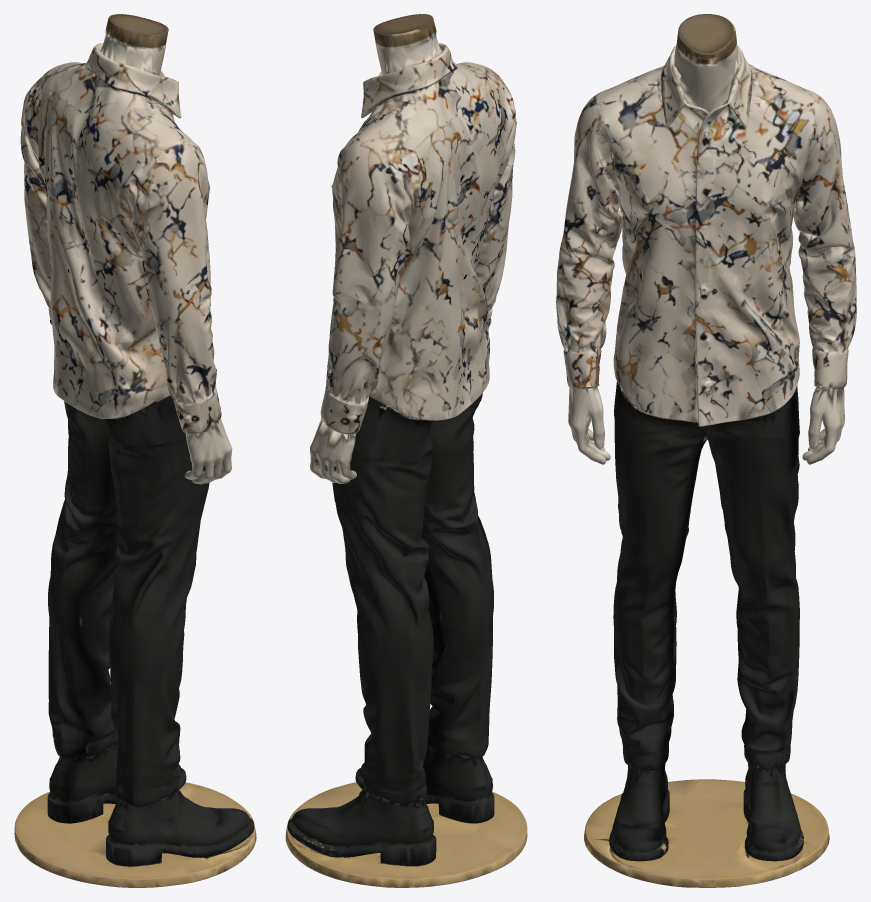
The model's file is pr_cream.glb.
The picture shows the model from 3 angles, left to right: view 1: azimuth 30°, elevation 25°; view 2: azimuth 150°, elevation 25°; view 3: azimuth 270°, elevation 25°; orthographic projection.
Visible parts, largest first — view 1: tripo_node_bfcce580-cf7c-4e6f-97a6-3f9bfe294234; view 2: tripo_node_bfcce580-cf7c-4e6f-97a6-3f9bfe294234; view 3: tripo_node_bfcce580-cf7c-4e6f-97a6-3f9bfe294234.
Boxes of the visible parts, x1,y1,x2,y2 form: tripo_node_bfcce580-cf7c-4e6f-97a6-3f9bfe294234: [14, 14, 256, 887]; tripo_node_bfcce580-cf7c-4e6f-97a6-3f9bfe294234: [285, 14, 527, 887]; tripo_node_bfcce580-cf7c-4e6f-97a6-3f9bfe294234: [556, 14, 856, 887].
Size of the model in its own units: 0.2614 by 0.9785 by 0.3279.
Materials: 1 (1 with a texture image).
